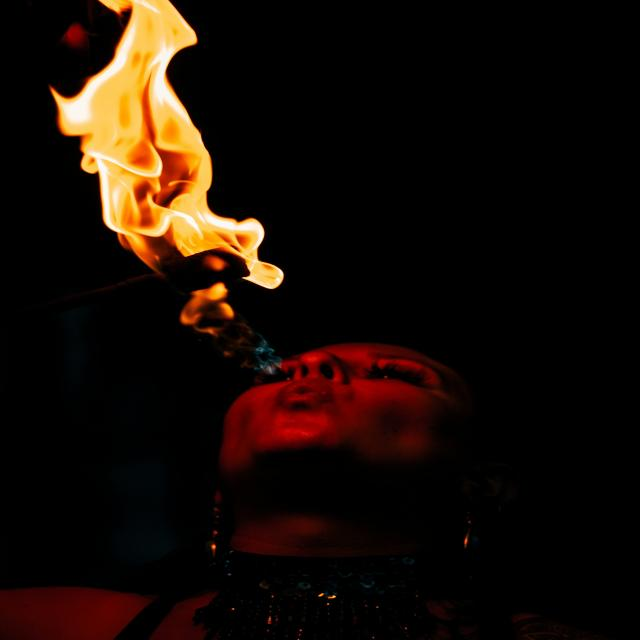fire: (38, 0, 268, 289), (181, 283, 232, 334)
